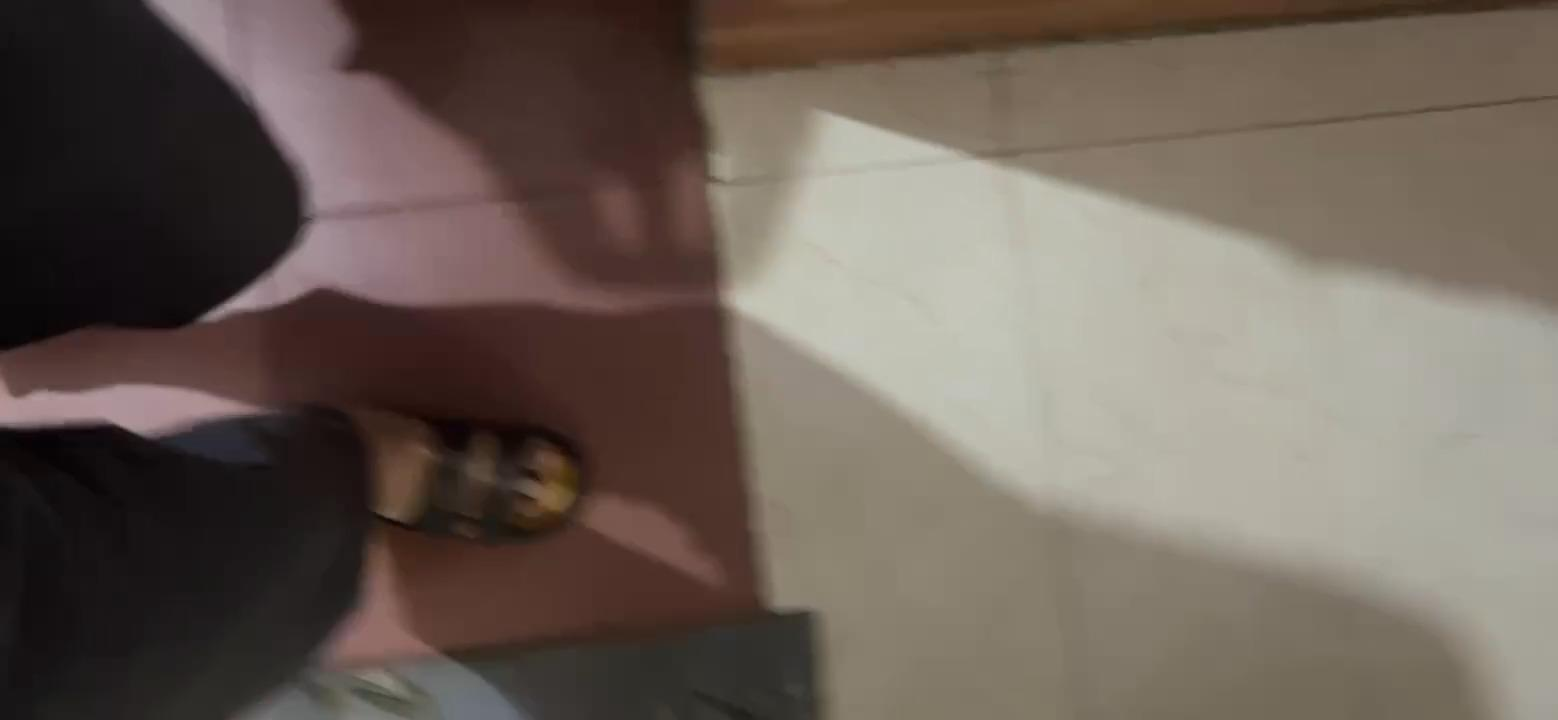no-boot: (329, 393, 572, 538)
